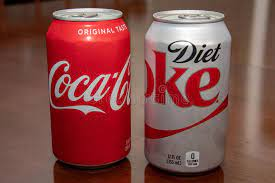can: (139, 5, 237, 175), (40, 4, 136, 169)
